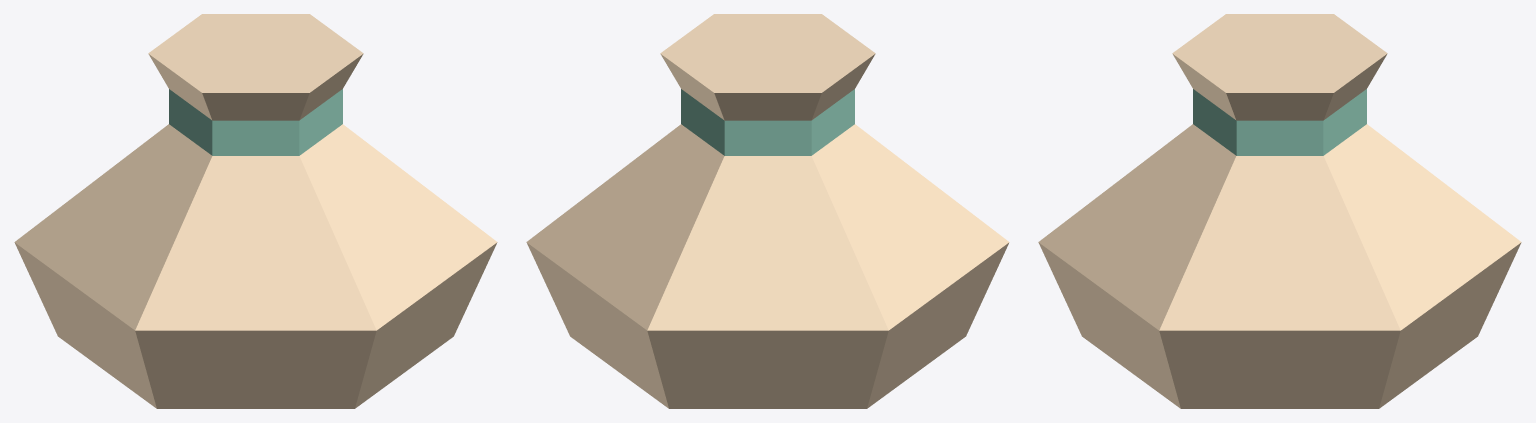
The model's file is dim-sum.glb.
3 renders of one model, left to right at view 1: azimuth 30°, elevation 25°; view 2: azimuth 150°, elevation 25°; view 3: azimuth 270°, elevation 25°, orthographic.
Visible parts, largest first — view 1: dimSum; view 2: dimSum; view 3: dimSum.
Boxes of the visible parts, <box> form: dimSum: <box>14,14,497,408</box>; dimSum: <box>526,14,1009,408</box>; dimSum: <box>1038,14,1521,408</box>.
Size of the model in its own units: 0.1608 by 0.12 by 0.1856.
